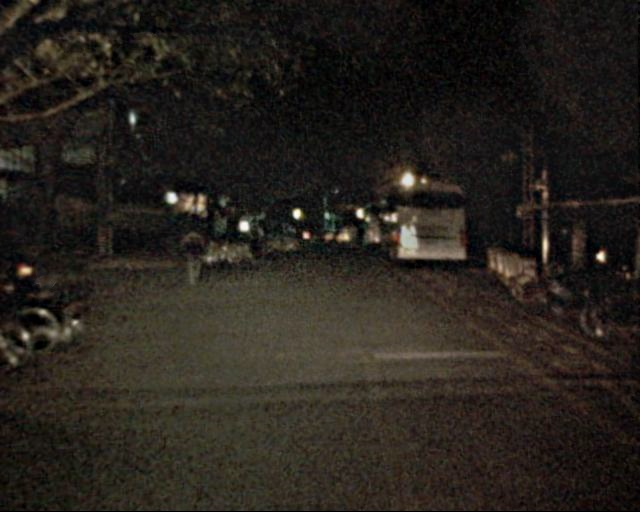person: (180, 217, 208, 286), (243, 217, 263, 265), (344, 222, 367, 253)
